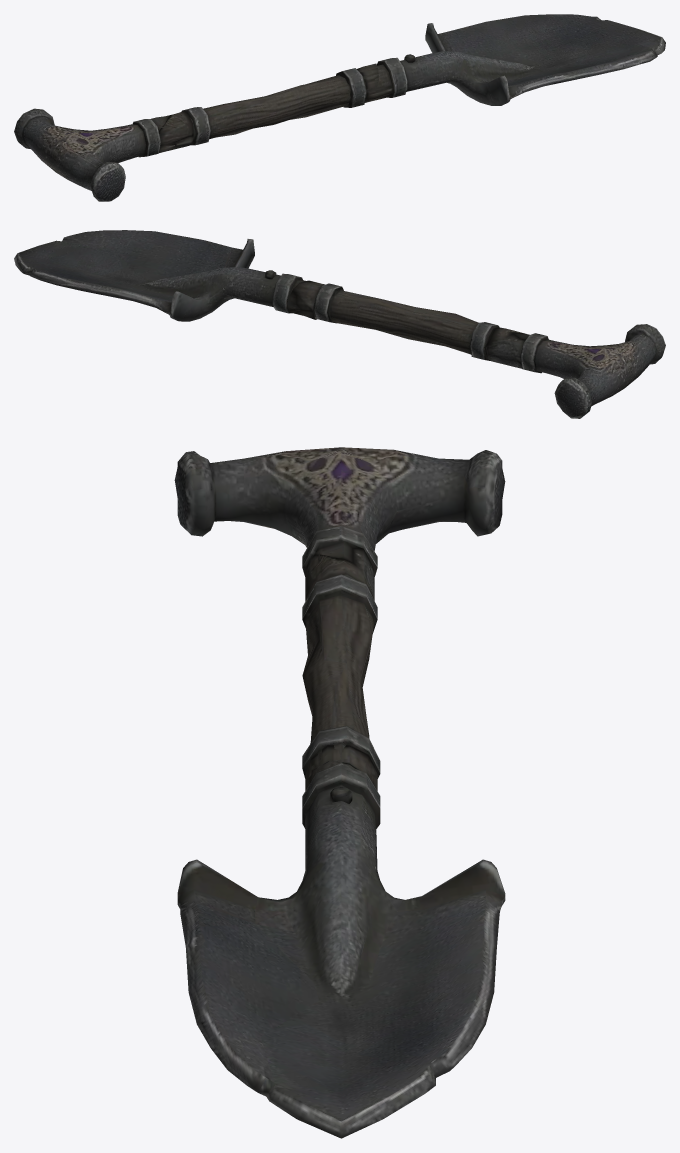
Rendered from tool_spade.glb.
3 renders of one model, top to bottom at view 1: azimuth 30°, elevation 25°; view 2: azimuth 150°, elevation 25°; view 3: azimuth 270°, elevation 25°, orthographic. The views are drawn at different scales.
Visible parts, largest first — view 1: tripo_node_1c4e7891-57e5-4213-b23e-2c0d32dc796b; view 2: tripo_node_1c4e7891-57e5-4213-b23e-2c0d32dc796b; view 3: tripo_node_1c4e7891-57e5-4213-b23e-2c0d32dc796b.
Part boxes in pixels (<box>): tripo_node_1c4e7891-57e5-4213-b23e-2c0d32dc796b: <box>14,14,665,201</box>; tripo_node_1c4e7891-57e5-4213-b23e-2c0d32dc796b: <box>14,230,665,418</box>; tripo_node_1c4e7891-57e5-4213-b23e-2c0d32dc796b: <box>174,447,505,1138</box>.
Bounding box in the file's own units: 0.998 × 0.0917 × 0.2323.
1 material, 1 textured.
